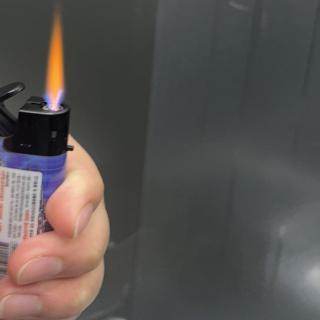fire: (42, 8, 67, 106)
